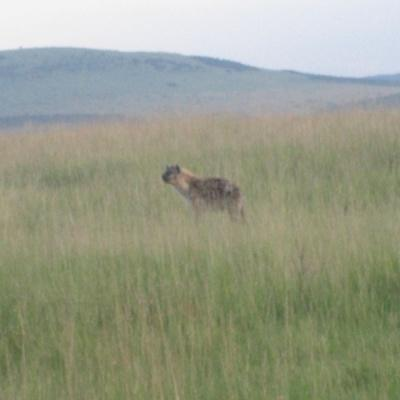hyenas: (150, 154, 264, 226)
